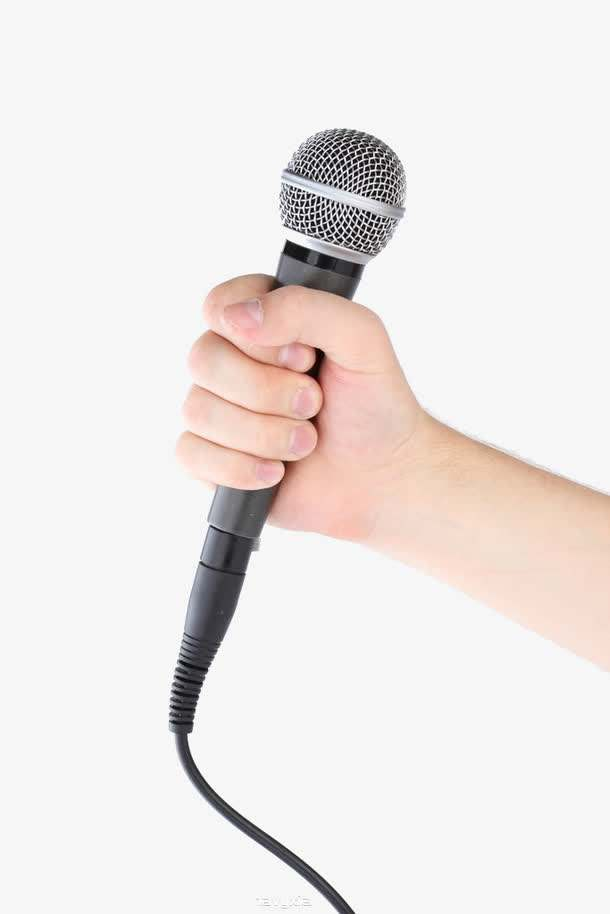no-phone: (179, 123, 566, 591)
